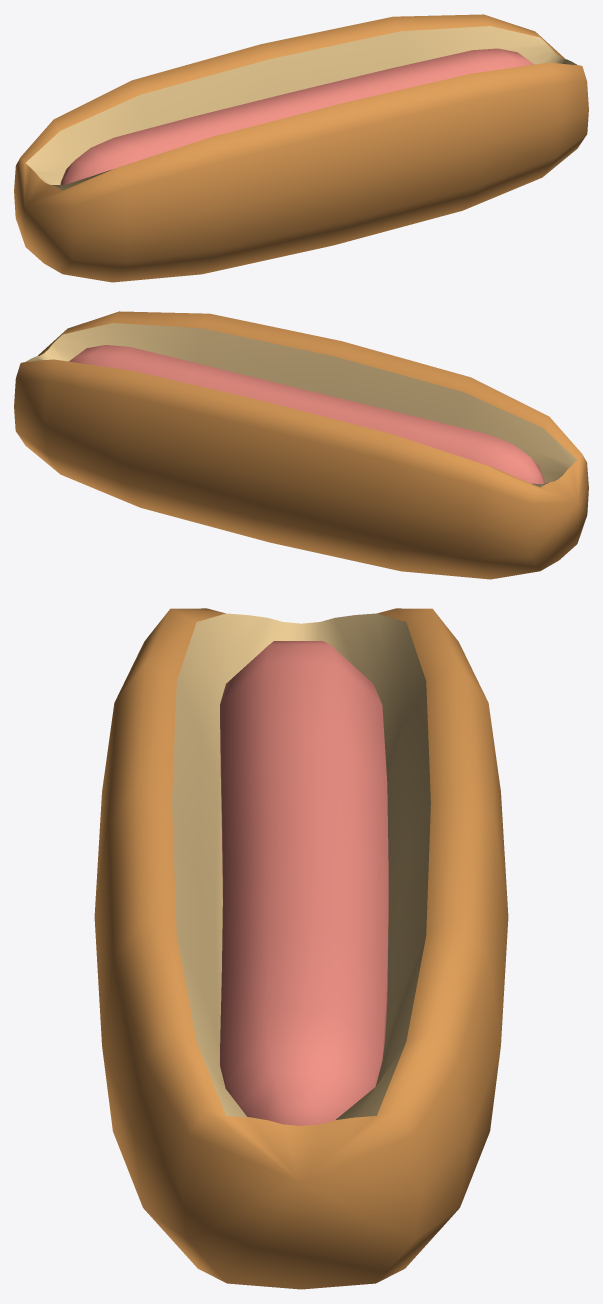
The model's file is pancho.glb.
3 views of the same model, one above another, from view 1: azimuth 30°, elevation 25°; view 2: azimuth 150°, elevation 25°; view 3: azimuth 270°, elevation 25° (orthographic). The views are drawn at different scales.
Parts seen in each view (by area): view 1: pan_pancho, pieza_salchicha; view 2: pan_pancho, pieza_salchicha; view 3: pan_pancho, pieza_salchicha.
Part boxes in pixels (x1,y1,x2,y2): pan_pancho: (14,14,588,282); pieza_salchicha: (60,48,533,184); pan_pancho: (14,311,588,579); pieza_salchicha: (69,345,544,484); pan_pancho: (94,608,508,1289); pieza_salchicha: (220,641,388,1125).
Size of the model in its own units: 0.17 by 0.045 by 0.055.
